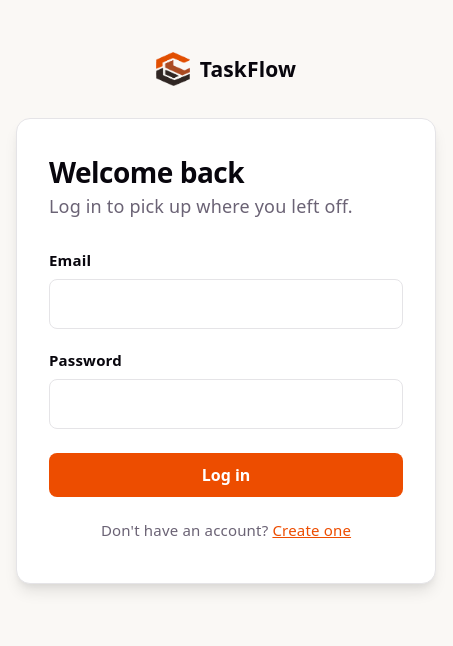
LoginPage › shows the generic error message on invalid credentials
In the field labelled "Email": (226, 304) [49, 279, 403, 329], type "ada@example.com"
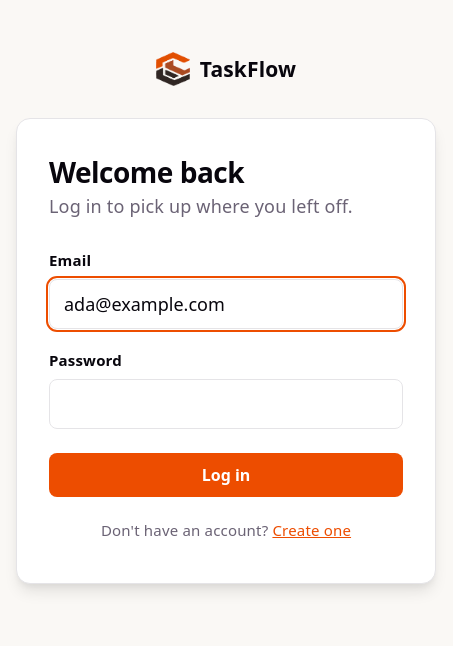
In the password field labelled "Password": (226, 404) [49, 379, 403, 429], type "wrong-password"
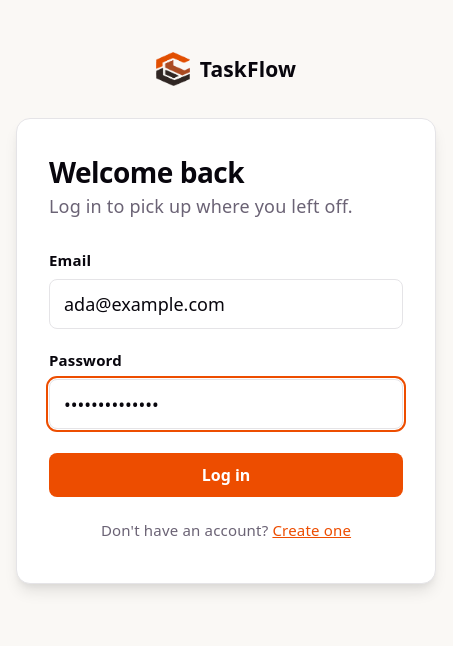
Click the button "Log in": (226, 475) [49, 453, 403, 497]
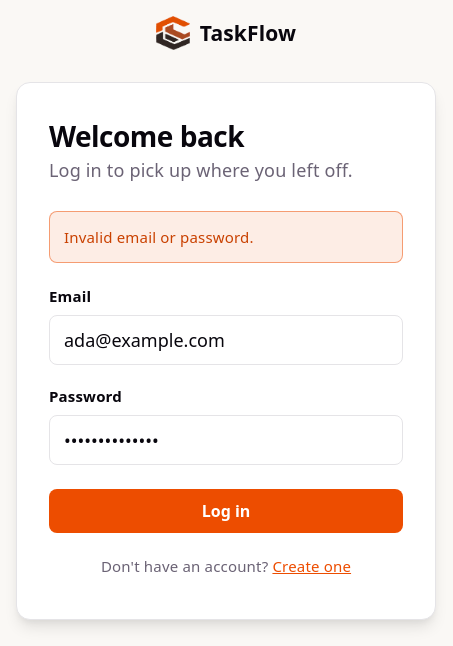
expect the heading "Welcome back" is shown: met, box [49, 117, 244, 155]
expect the message shows "Invalid email or password": met, box [64, 227, 254, 247]
